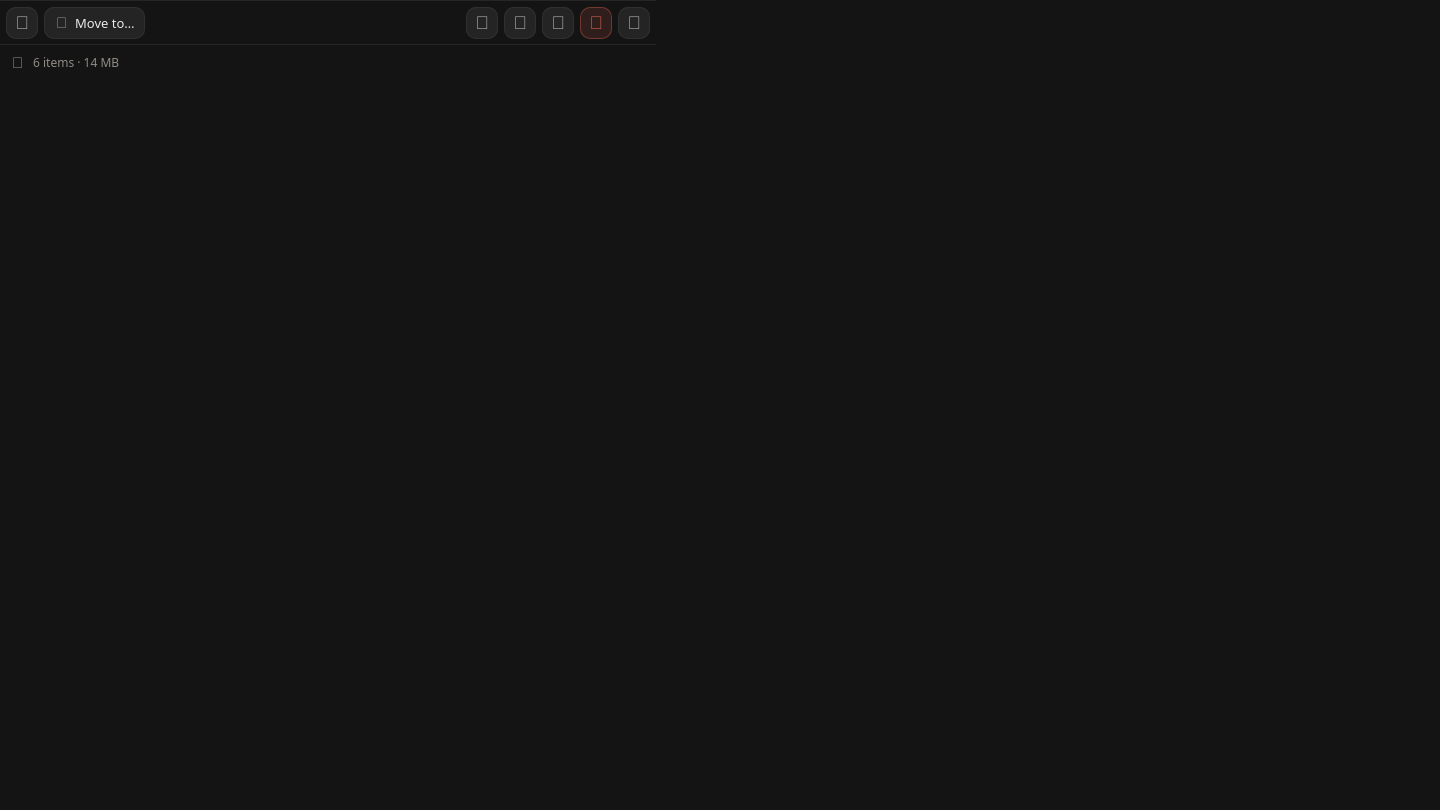
Move to… opens the tree down to the file's folder, which cannot be picked
The width and height of the screenshot is (1440, 810).
Click the button " Move to…". click: (94, 22)
box: [44, 6, 145, 38]
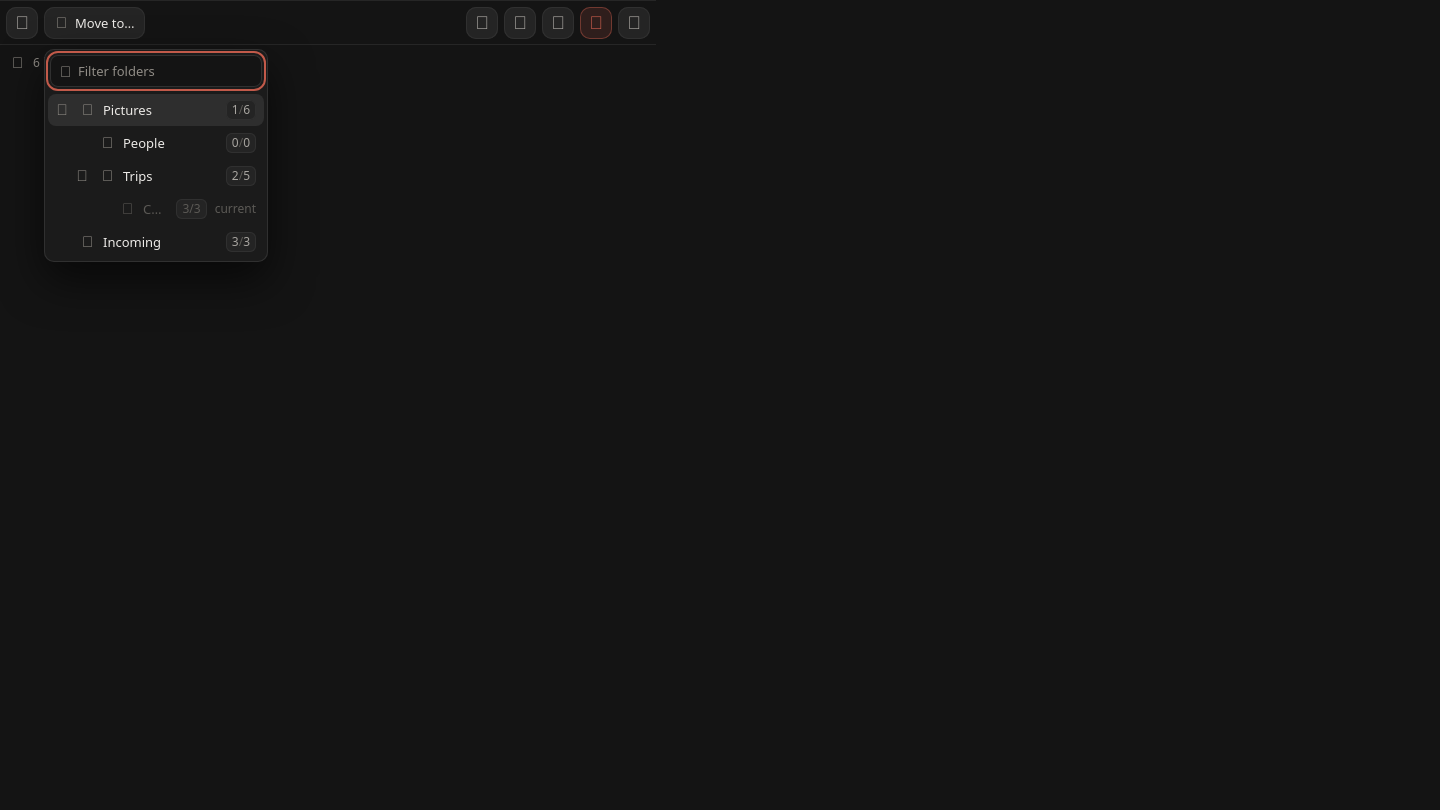
Check: the option " People 0/0" is shown, box [102, 132, 256, 152]
